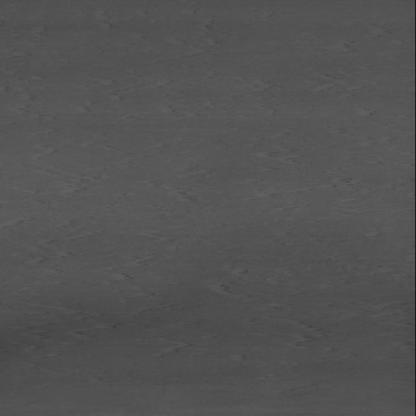silk_spot: (68, 231, 330, 314), (62, 143, 328, 220), (57, 322, 329, 379)
